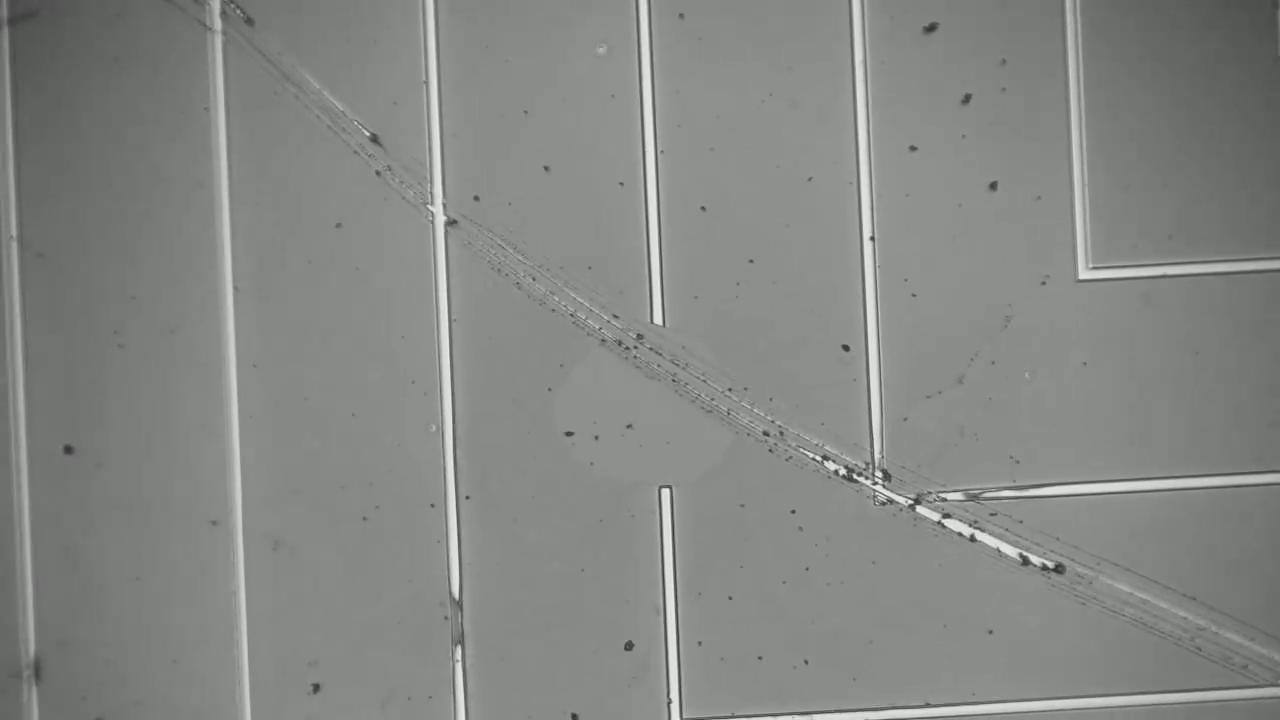gray_line: (437, 574, 479, 671), (8, 645, 52, 705)
open: (639, 303, 684, 504)
scratch: (221, 15, 874, 485), (882, 483, 1280, 687)
